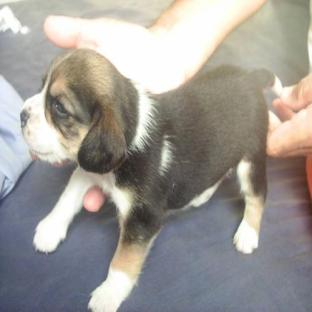Animal: (20, 49, 281, 311)
